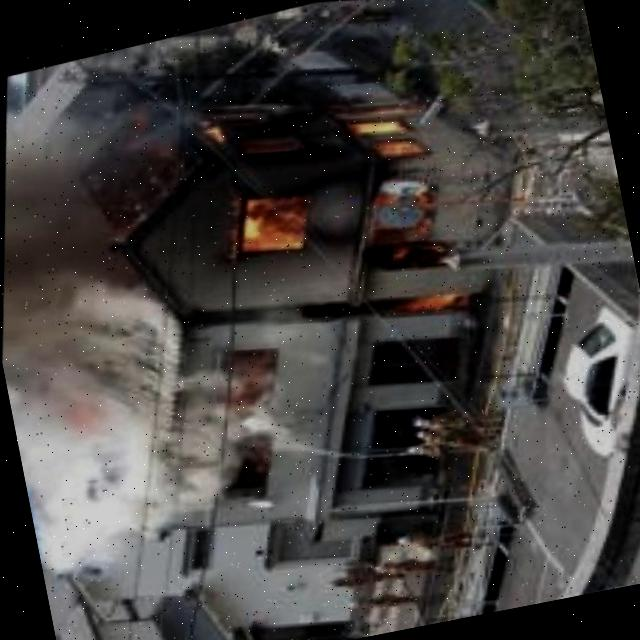fire: (147, 33, 542, 391)
